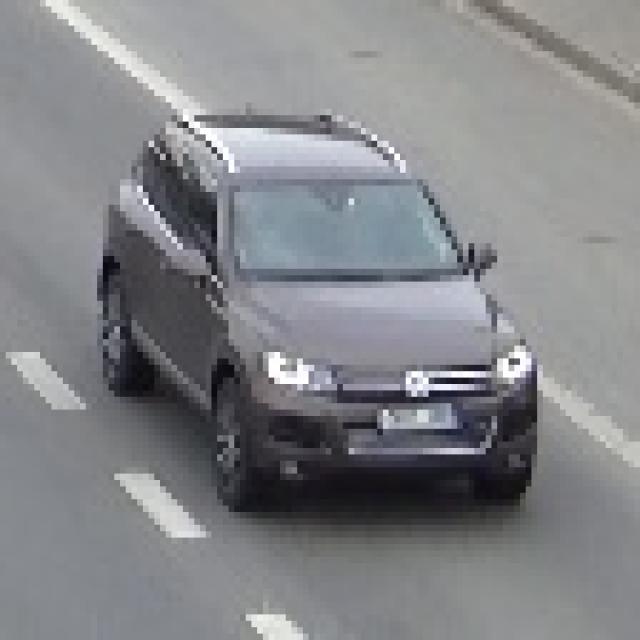SUV: (119, 129, 522, 492)
